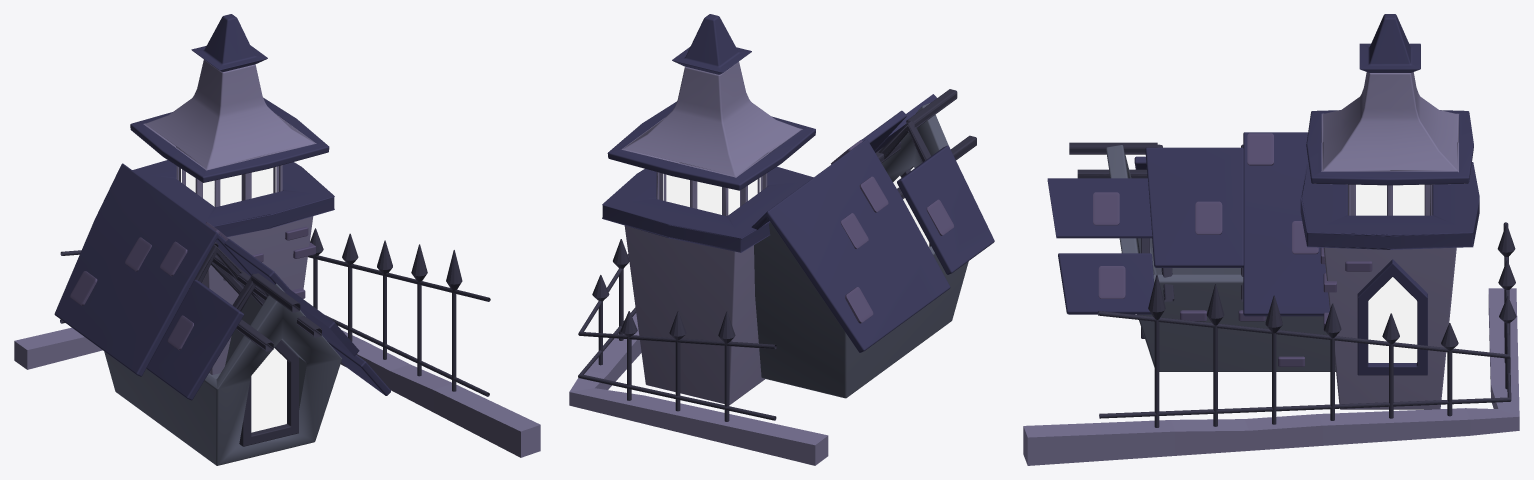
Rendered from realSpookeHouse.glb.
3 views of the same model, side by side, from view 1: azimuth 30°, elevation 25°; view 2: azimuth 150°, elevation 25°; view 3: azimuth 270°, elevation 25° (orthographic). The views are drawn at different scales.
Visible parts, largest first — view 1: Plane.001, house top.005, Plane, Plane.002, Plane.009, house top lines, Plane.005, Plane.004, Plane.003, Cube.014, Cube.012; view 2: Plane.001, house top.005, Plane, Plane.002, Plane.009, house top lines, Plane.003, Cube.014, Cube.012, Cube.015, Cube.013; view 3: Plane.001, house top.005, Plane.002, Plane, Plane.009, Plane.007, Plane.010, Plane.003, house top lines, Cube.010, Cube.017, Cube.016 (+2 smaller).
Part boxes in pixels (left/top/right/bottom): Plane.001: left=130, top=14, right=334, bottom=374; house top.005: left=54, top=163, right=390, bottom=400; Plane: left=104, top=283, right=341, bottom=465; Plane.002: left=14, top=327, right=540, bottom=457; Plane.009: left=60, top=228, right=490, bottom=396; house top lines: left=189, top=242, right=321, bottom=351; Plane.005: left=251, top=348, right=286, bottom=432; Plane.004: left=239, top=340, right=298, bottom=446; Plane.003: left=181, top=167, right=276, bottom=206; Cube.014: left=70, top=271, right=97, bottom=305; Cube.012: left=160, top=241, right=187, bottom=276; Plane.001: left=602, top=14, right=815, bottom=404; house top.005: left=751, top=94, right=994, bottom=352; Plane: left=754, top=103, right=968, bottom=398; Plane.002: left=569, top=313, right=828, bottom=465; Plane.009: left=578, top=239, right=776, bottom=421; house top lines: left=875, top=89, right=976, bottom=198; Plane.003: left=663, top=174, right=760, bottom=214; Cube.014: left=845, top=287, right=873, bottom=323; Cube.012: left=859, top=176, right=888, bottom=212; Cube.015: left=926, top=199, right=954, bottom=235; Cube.013: left=840, top=213, right=868, bottom=248; Plane.001: left=1300, top=14, right=1479, bottom=409; house top.005: left=1047, top=132, right=1329, bottom=316; Plane.002: left=1023, top=288, right=1519, bottom=465; Plane: left=1106, top=145, right=1335, bottom=371; Plane.009: left=1098, top=222, right=1516, bottom=427; Plane.007: left=1357, top=259, right=1427, bottom=375; Plane.010: left=1368, top=277, right=1417, bottom=362; Plane.003: left=1356, top=184, right=1424, bottom=215; house top lines: left=1069, top=142, right=1243, bottom=301; Cube.010: left=1195, top=201, right=1222, bottom=234; Cube.017: left=1098, top=266, right=1125, bottom=298; Cube.016: left=1093, top=192, right=1119, bottom=225.
Size of what is drawn, in the model's own units: 6.13 by 6.72 by 8.03.
